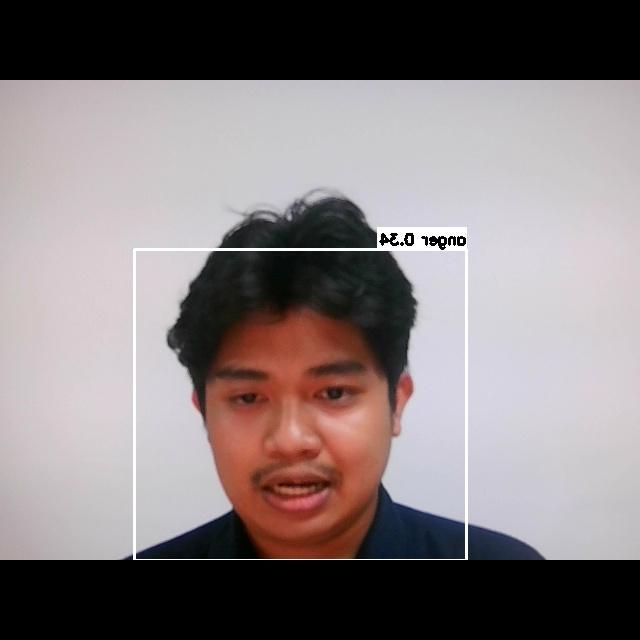Fear: (177, 325, 399, 530)
